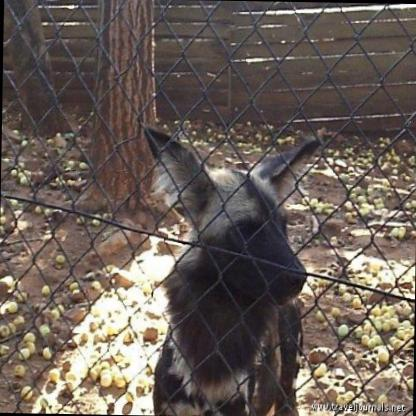African_hunting_dog: (133, 120, 326, 416)
